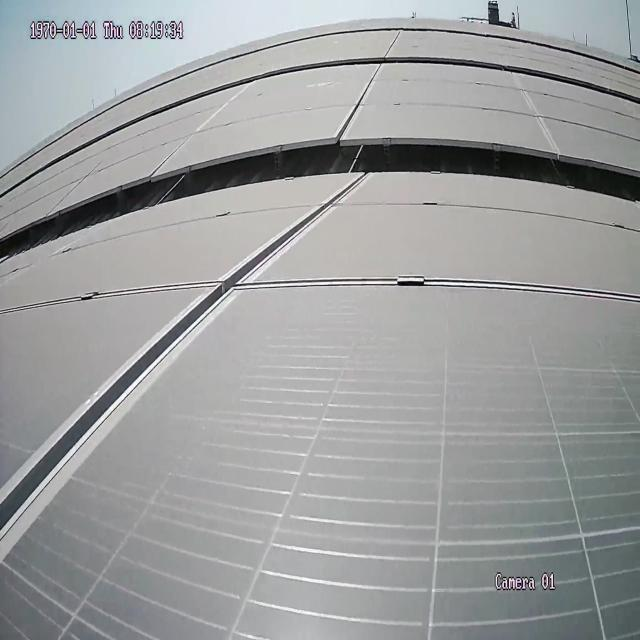interior panel: (1, 182, 638, 560), (513, 77, 559, 144), (336, 69, 385, 129)
outher panel: (0, 135, 640, 264)
